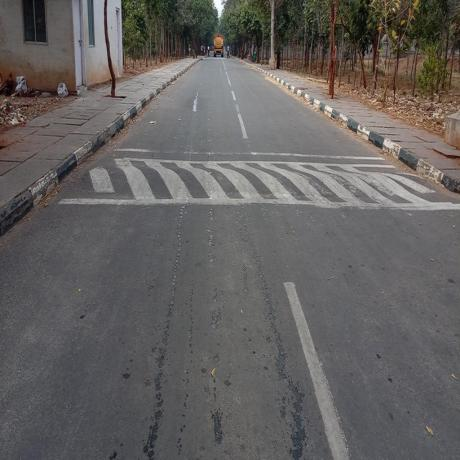Speed Bump: (58, 146, 460, 207)
